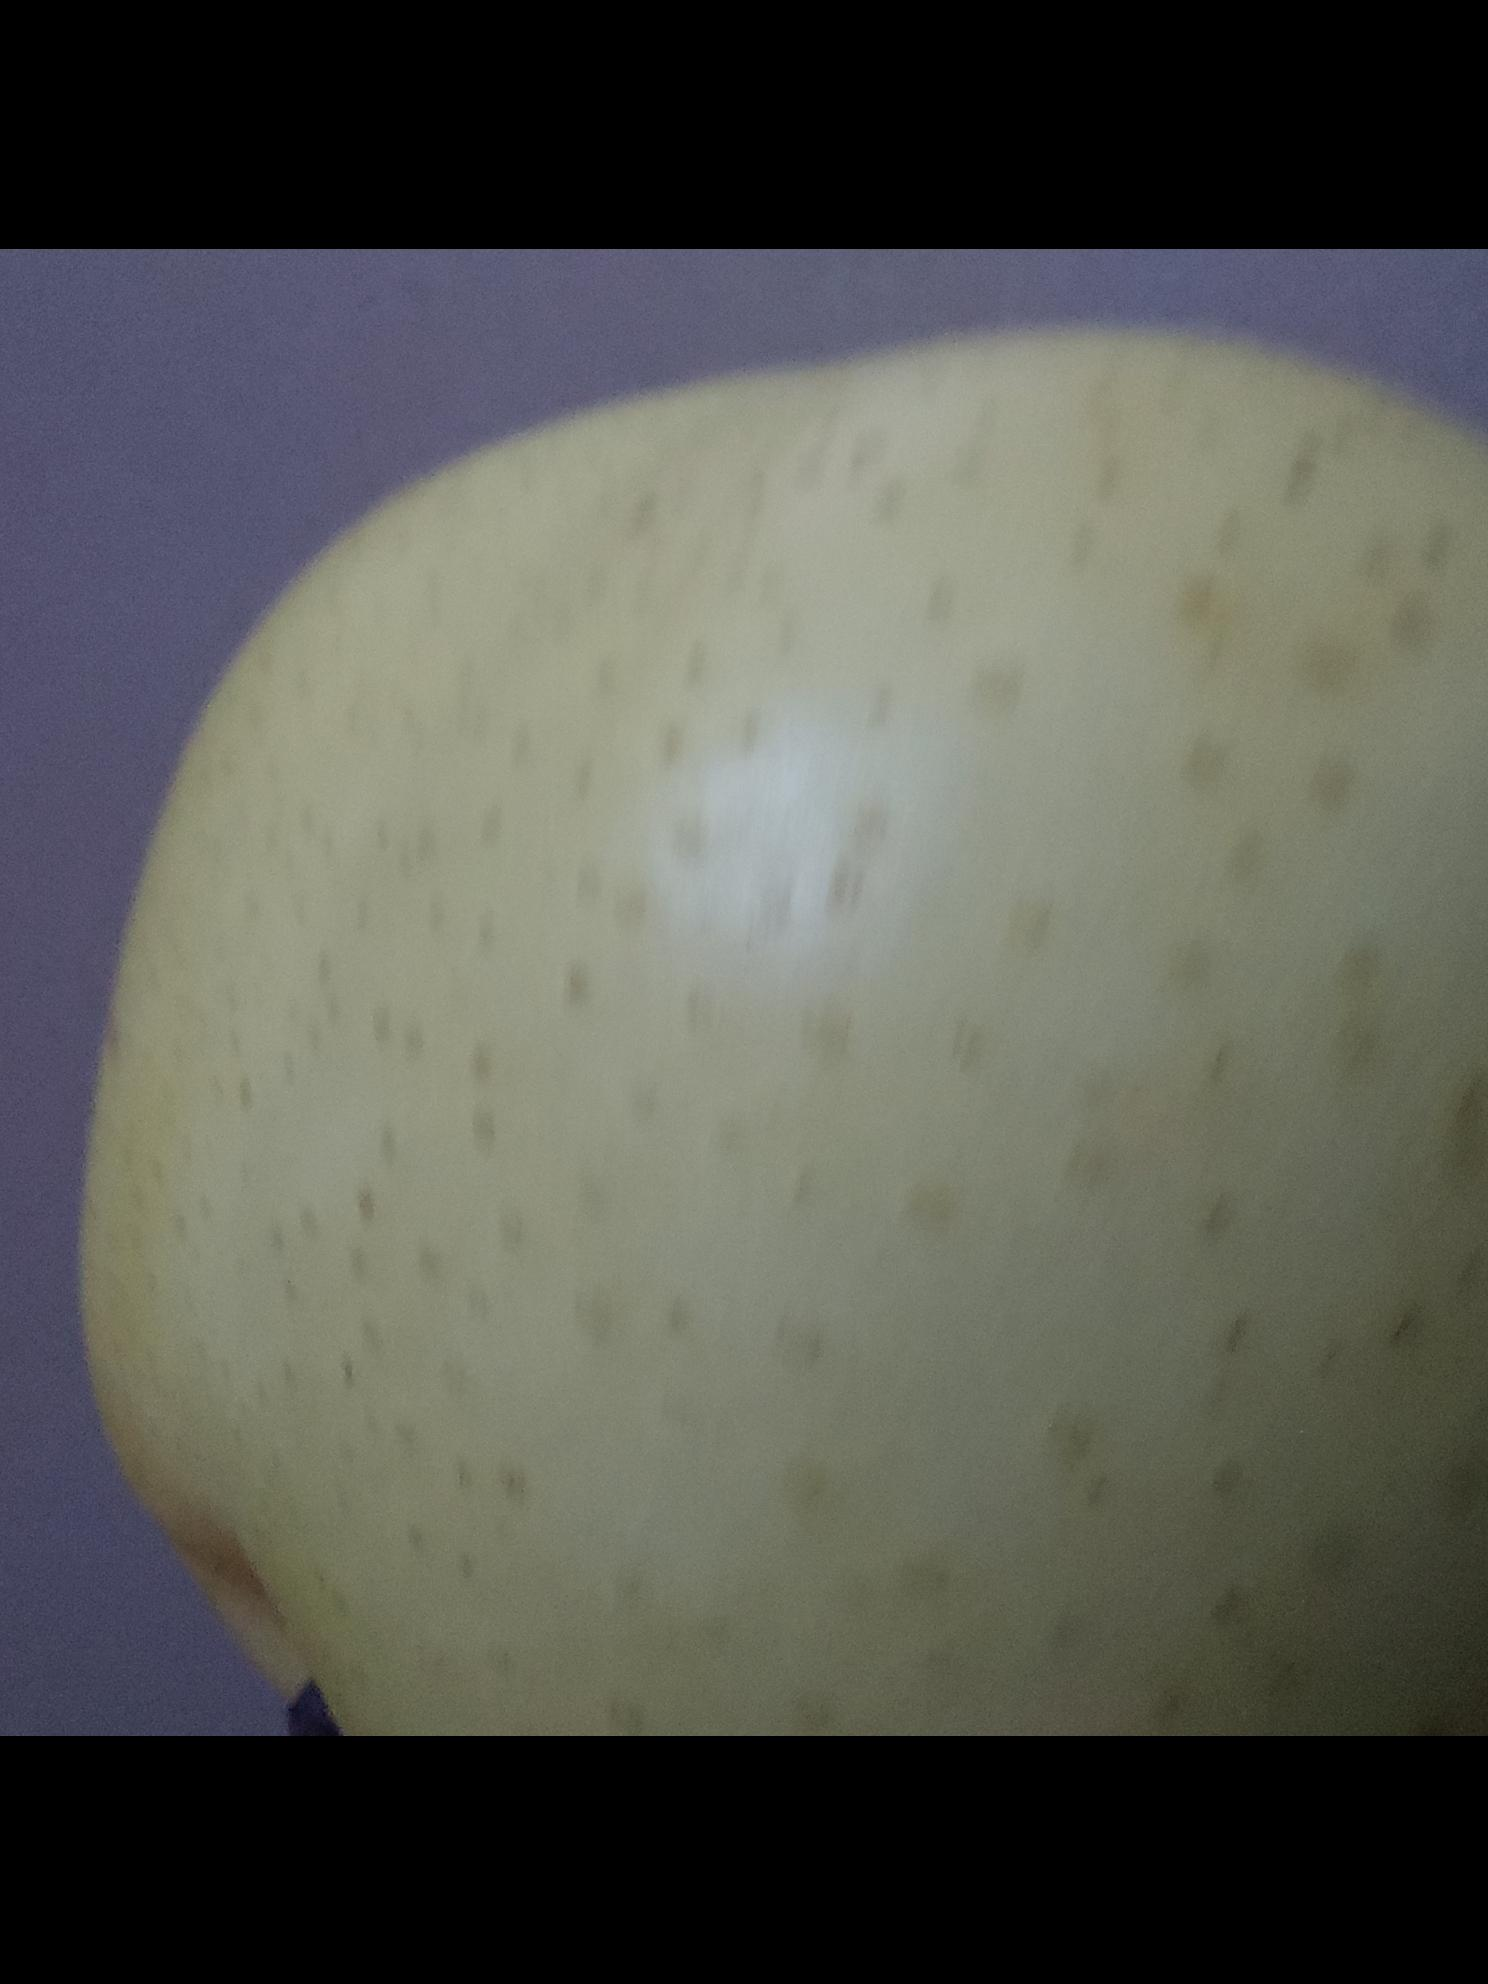Good Pear: (55, 320, 1488, 1736)
